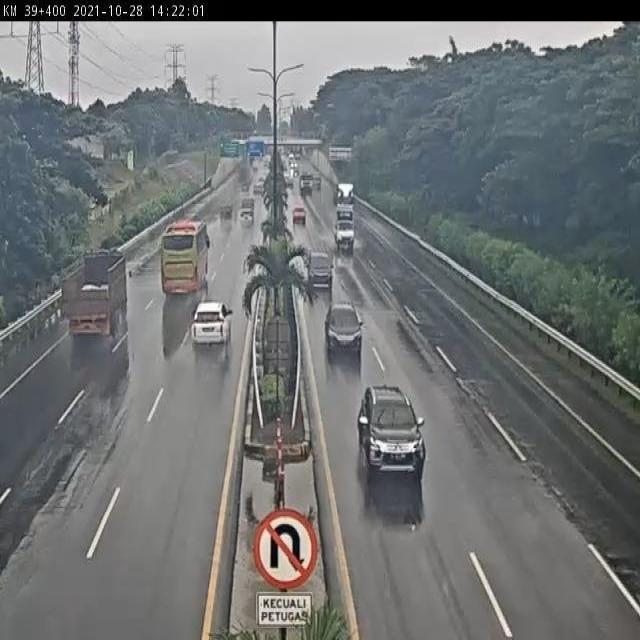Bus: (159, 218, 211, 300)
Car: (357, 384, 426, 476), (324, 304, 364, 356), (192, 302, 235, 347), (308, 249, 336, 292), (292, 206, 308, 228), (240, 210, 258, 225)
Truck: (57, 250, 133, 337), (332, 203, 357, 255)
